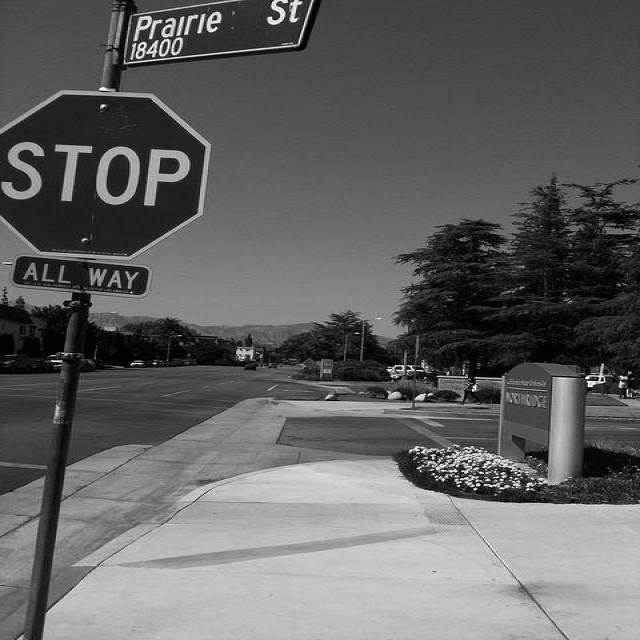vehicle: (0, 353, 33, 372), (384, 364, 426, 377), (395, 371, 436, 381), (586, 376, 615, 390), (80, 359, 95, 372), (48, 355, 62, 366), (131, 360, 147, 366), (244, 363, 256, 371), (149, 359, 163, 365), (183, 359, 197, 365), (268, 363, 278, 369)
